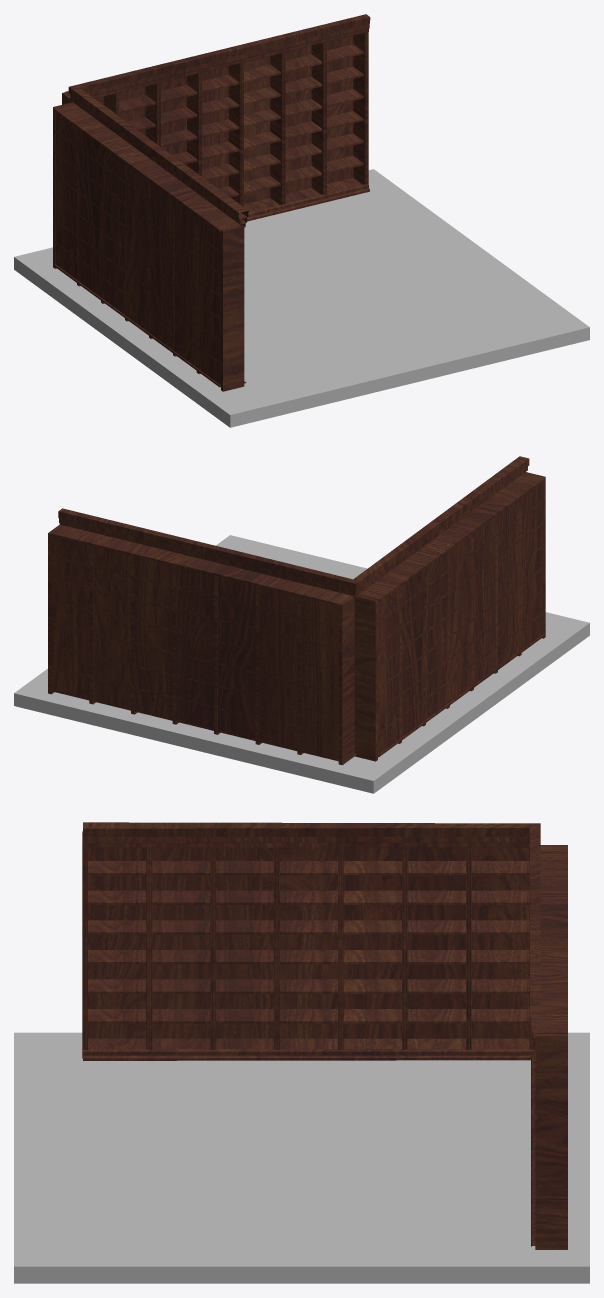
Rendered from book_shelf.glb.
The picture shows the model from 3 angles, top to bottom: view 1: azimuth 30°, elevation 25°; view 2: azimuth 150°, elevation 25°; view 3: azimuth 270°, elevation 25°; orthographic projection. The views are drawn at different scales.
Parts seen in each view (by area): view 1: Cube, 220-_Bookcaseback.002, 218-_BookcaseShelves., 2247-_Bookshelftopand, polySurface15, 1147-_Bookcaseside.03; view 2: 220-_Bookcaseback.002, Cube, 218-_BookcaseShelves., 2247-_Bookshelftopand, 1147-_Bookcaseside.03, polySurface15, polySurface3; view 3: Cube, 218-_BookcaseShelves., 220-_Bookcaseback.002, 2247-_Bookshelftopand, 1147-_Bookcaseside.03, polySurface15.
Boxes of the visible parts, left/top/right/bottom form: Cube: left=14, top=169, right=589, bottom=427; 220-_Bookcaseback.002: left=55, top=36, right=353, bottom=384; 218-_BookcaseShelves.: left=53, top=44, right=363, bottom=387; 2247-_Bookshelftopand: left=68, top=14, right=370, bottom=383; polySurface15: left=104, top=32, right=368, bottom=206; 1147-_Bookcaseside.03: left=53, top=102, right=244, bottom=391; 220-_Bookcaseback.002: left=51, top=481, right=543, bottom=759; Cube: left=14, top=535, right=589, bottom=793; 218-_BookcaseShelves.: left=51, top=473, right=544, bottom=761; 2247-_Bookshelftopand: left=58, top=456, right=529, bottom=755; 1147-_Bookcaseside.03: left=354, top=472, right=545, bottom=761; polySurface15: left=48, top=525, right=303, bottom=754; polySurface3: left=338, top=596, right=354, bottom=765; Cube: left=14, top=1032, right=589, bottom=1283; 218-_BookcaseShelves.: left=88, top=846, right=567, bottom=1048; 220-_Bookcaseback.002: left=88, top=847, right=529, bottom=1038; 2247-_Bookshelftopand: left=82, top=822, right=540, bottom=1246; 1147-_Bookcaseside.03: left=82, top=831, right=535, bottom=1058; polySurface15: left=535, top=1034, right=567, bottom=1249.
Bounding box in the file's own units: 59.14 × 29.45 × 61.55.
Materials: 2 (1 with a texture image).
